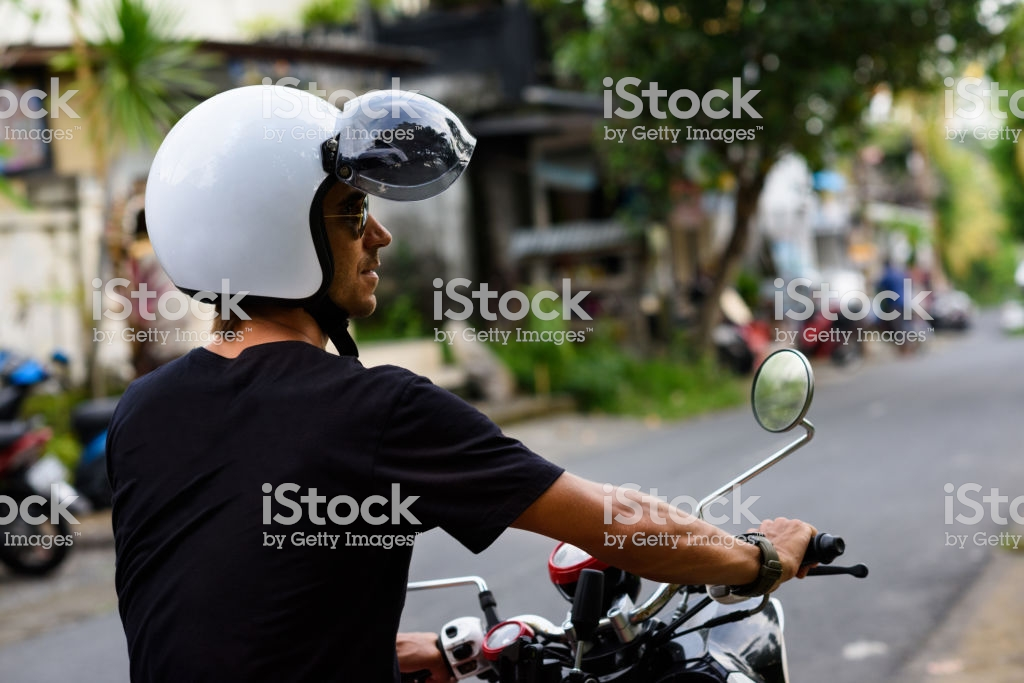helmet: (147, 84, 420, 310)
